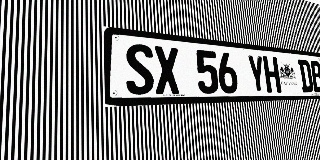5: (195, 50, 220, 94)
6: (216, 52, 239, 93)
B: (309, 60, 320, 92)
D: (298, 59, 314, 92)
H: (263, 56, 282, 93)
S: (125, 43, 155, 95)
X: (153, 46, 181, 94)
Y: (247, 54, 267, 93)
